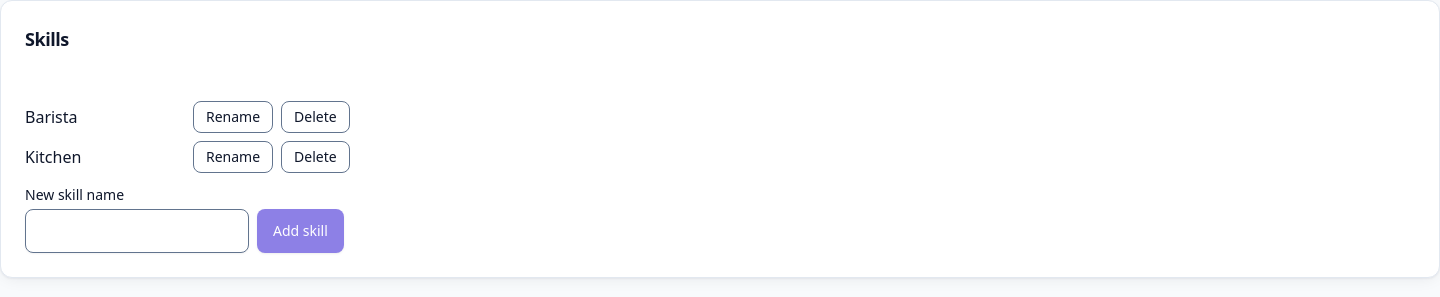
Test case: SkillsSection › deletes a skill
Click the button with aria-label "Delete Kitchen".
click(315, 157)  # box left=281, top=141, right=350, bottom=173
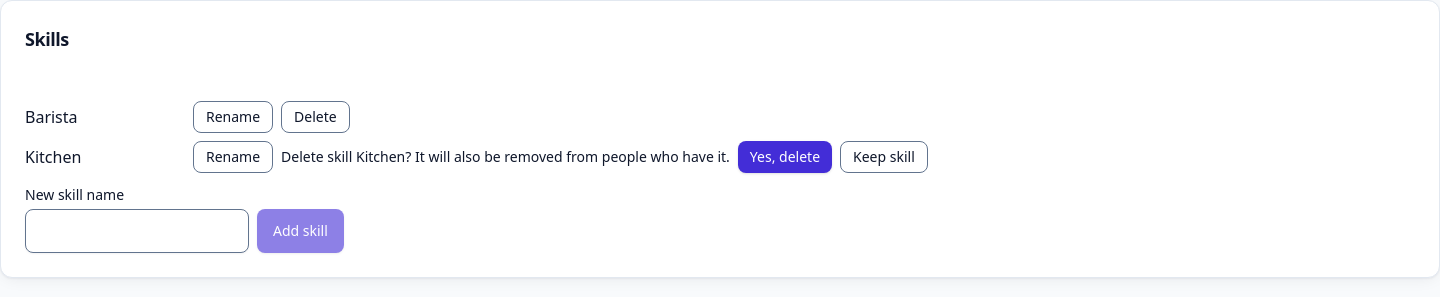
expect the text "Delete skill Kitchen? It will also be removed from people who have it." is shown: met, box left=281, top=147, right=730, bottom=167
Click the button "Yes, delete".
click(785, 157)  # box left=738, top=141, right=832, bottom=173
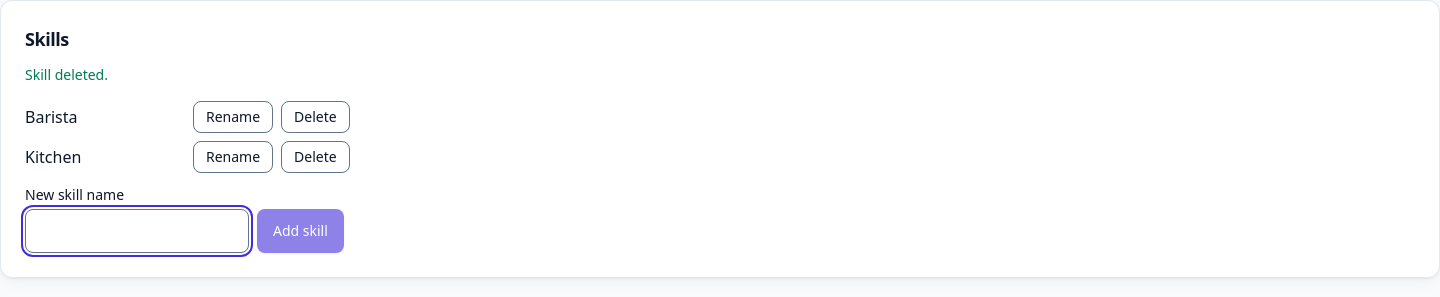
expect the text "Skill deleted." is shown: met, box left=25, top=65, right=108, bottom=84
